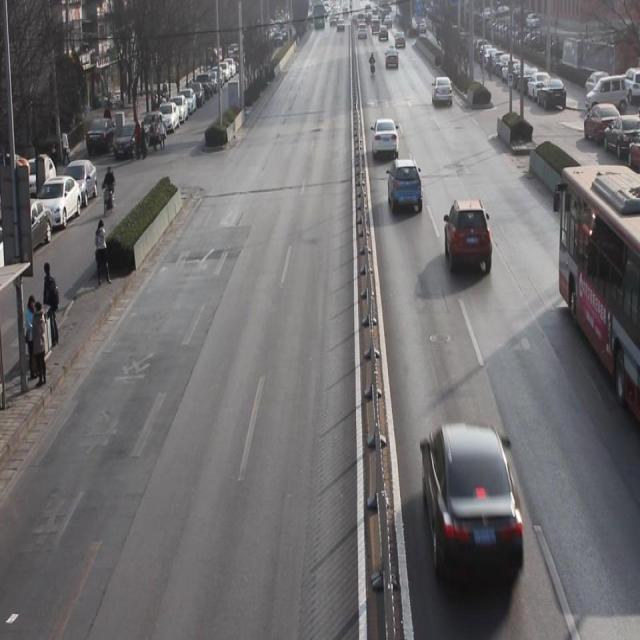car: (422, 416, 528, 587), (444, 198, 493, 275), (389, 158, 423, 216), (372, 112, 401, 162), (431, 78, 456, 107), (385, 47, 400, 72)
van: (556, 166, 640, 415)
